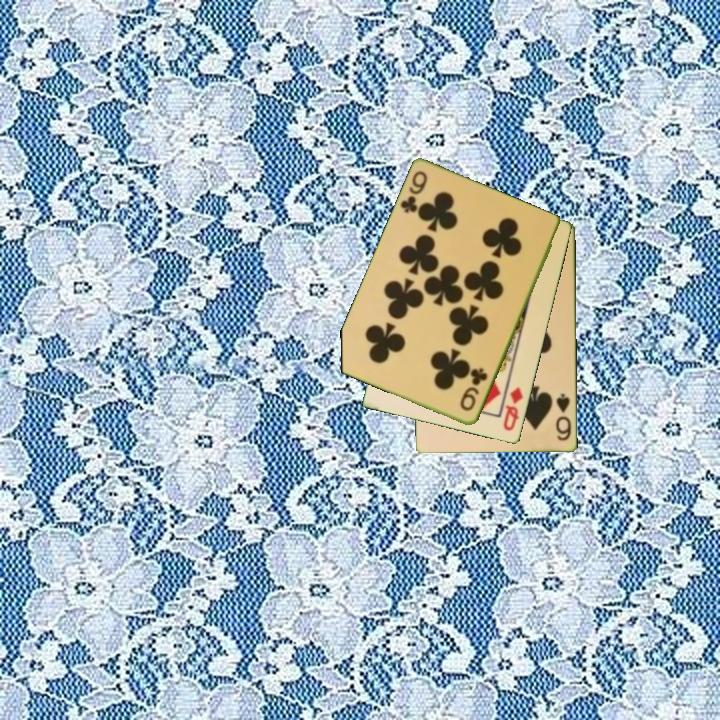6s: (553, 390, 574, 444)
9c: (456, 364, 491, 414), (397, 168, 430, 217)
Qd: (500, 383, 526, 434)
